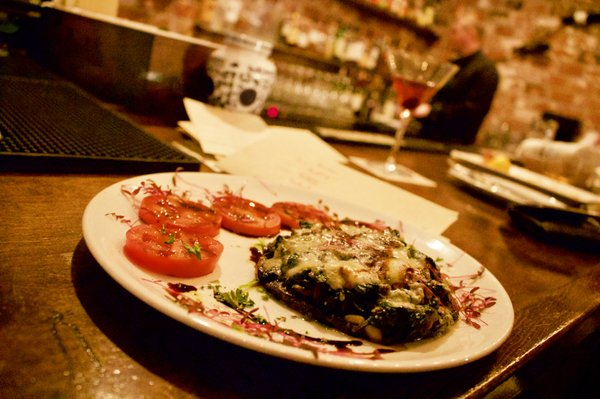curry: (1, 6, 591, 392)
sandwich: (79, 170, 485, 357)
